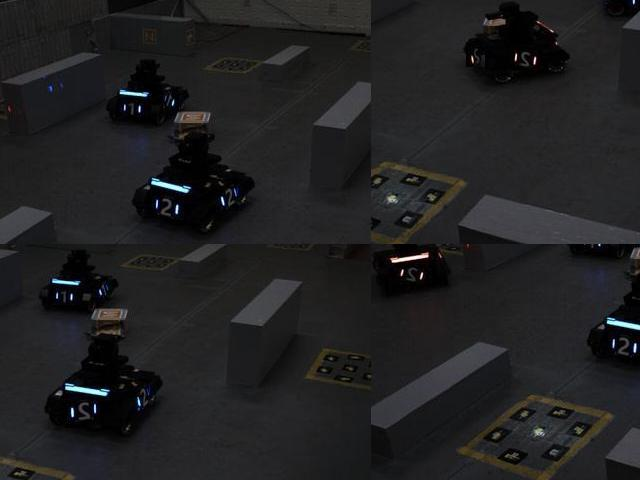armor: (66, 399, 103, 430), (607, 331, 639, 365), (151, 195, 183, 222), (511, 47, 545, 72), (215, 183, 241, 211), (396, 263, 430, 284), (132, 382, 154, 414), (49, 286, 75, 309), (467, 42, 487, 68), (119, 98, 143, 119), (163, 92, 180, 113), (579, 244, 606, 254), (625, 0, 639, 10)
